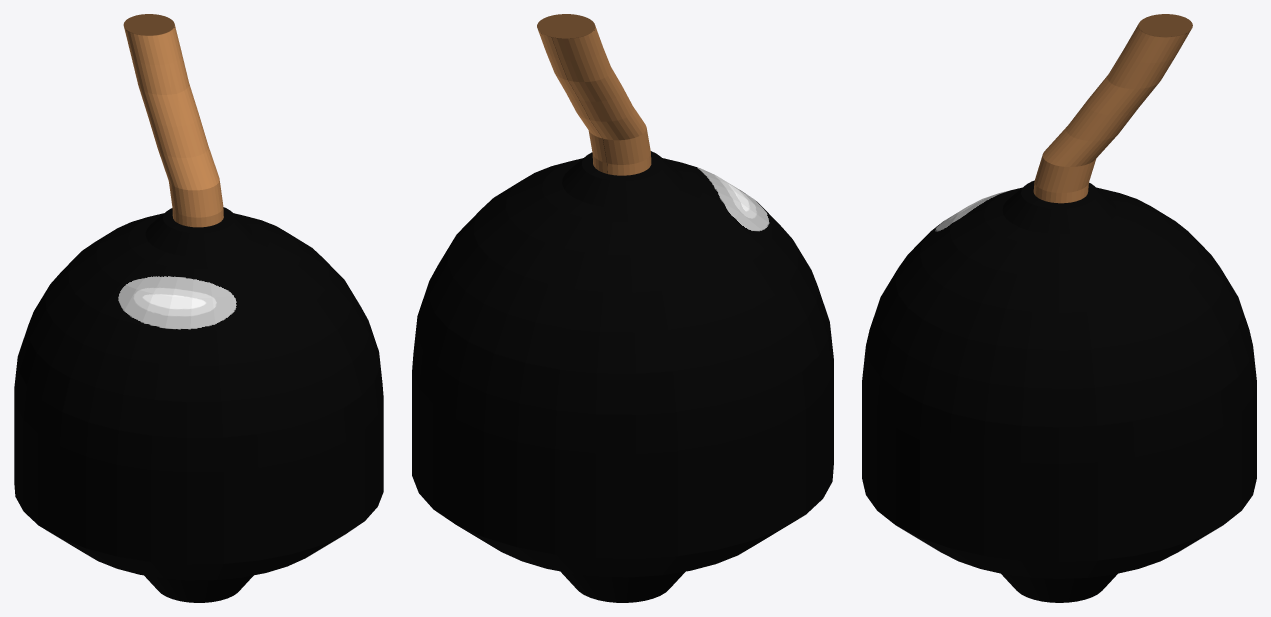
File: bombenemy.obj
3 renders of one model, left to right at view 1: azimuth 30°, elevation 25°; view 2: azimuth 150°, elevation 25°; view 3: azimuth 270°, elevation 25°, orthographic. The views are drawn at different scales.
Visible parts, largest first — view 1: 球; view 2: 球; view 3: 球.
Part boxes in pixels (x1,y1,x2,y2): 球: (14, 14, 383, 602); 球: (412, 14, 833, 602); 球: (862, 14, 1256, 602).
Bounding box in the file's own units: 2 × 3.12 × 2.
Materials: 1 (1 with a texture image).
